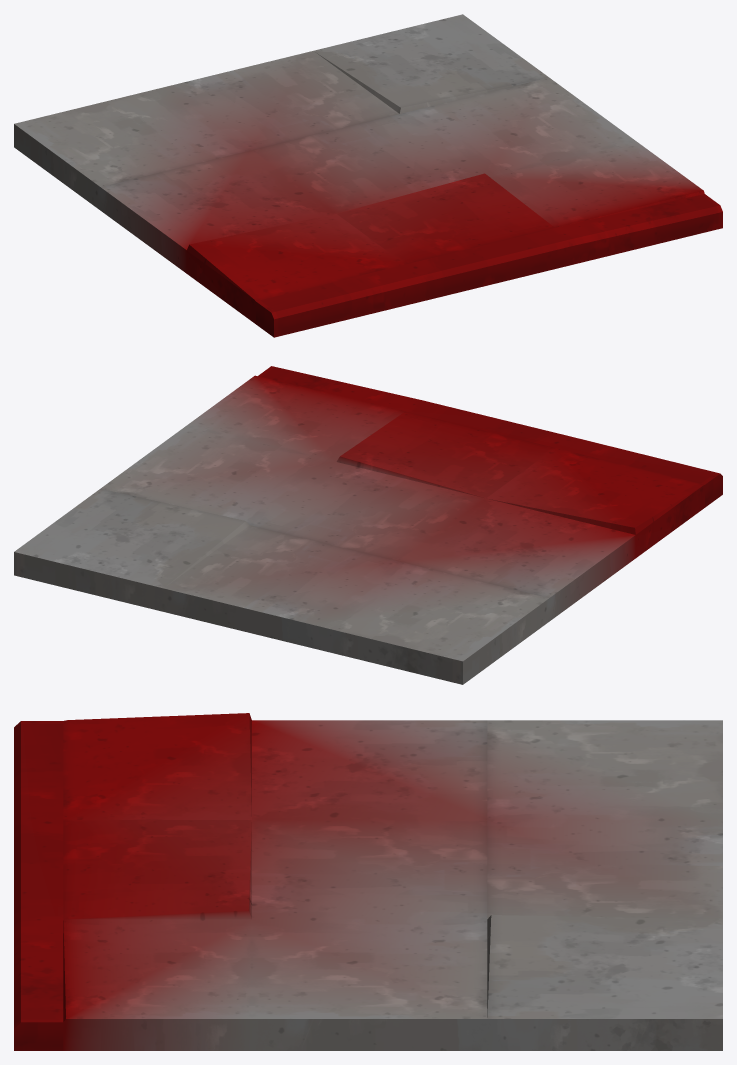
Rendered from Sidewalk_Straight_3m_Broken2.gltf.
The picture shows the model from 3 angles, top to bottom: view 1: azimuth 30°, elevation 25°; view 2: azimuth 150°, elevation 25°; view 3: azimuth 270°, elevation 25°; orthographic projection. The views are drawn at different scales.
Visible parts, largest first — view 1: Sidewalk_Straight_3m_Broken2; view 2: Sidewalk_Straight_3m_Broken2; view 3: Sidewalk_Straight_3m_Broken2.
Part boxes in pixels (bbox=[...]): Sidewalk_Straight_3m_Broken2: bbox=[14, 14, 722, 337]; Sidewalk_Straight_3m_Broken2: bbox=[14, 366, 722, 684]; Sidewalk_Straight_3m_Broken2: bbox=[14, 713, 722, 1050].
Bounding box in the file's own units: 3 × 0.1888 × 3.01.
Materials: 1 (1 with a texture image).
